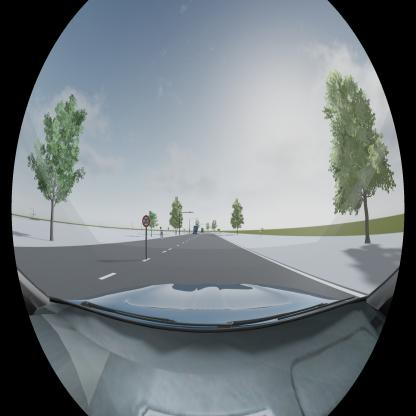Green Light: (189, 212, 191, 214)
Speed Limit 20: (142, 216, 150, 226)
